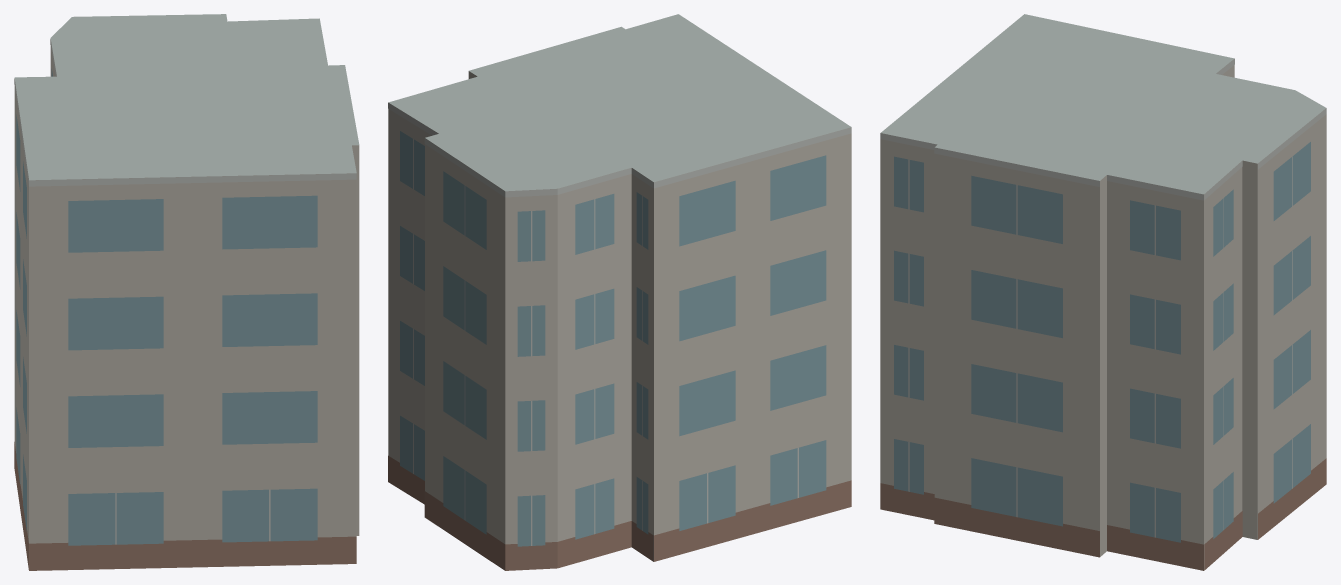
The model's file is survey-upis-32587321.glb.
3 renders of one model, left to right at view 1: azimuth 30°, elevation 25°; view 2: azimuth 150°, elevation 25°; view 3: azimuth 270°, elevation 25°, orthographic. The views are drawn at different scales.
Visible parts, largest first — view 1: survey-upis-32587321.tmp; view 2: survey-upis-32587321.tmp; view 3: survey-upis-32587321.tmp.
Part boxes in pixels (<box>): survey-upis-32587321.tmp: <box>14,14,359,570</box>; survey-upis-32587321.tmp: <box>388,14,851,570</box>; survey-upis-32587321.tmp: <box>880,14,1326,570</box>.
Bounding box in the file's own units: 15.41 × 14.98 × 16.1.
